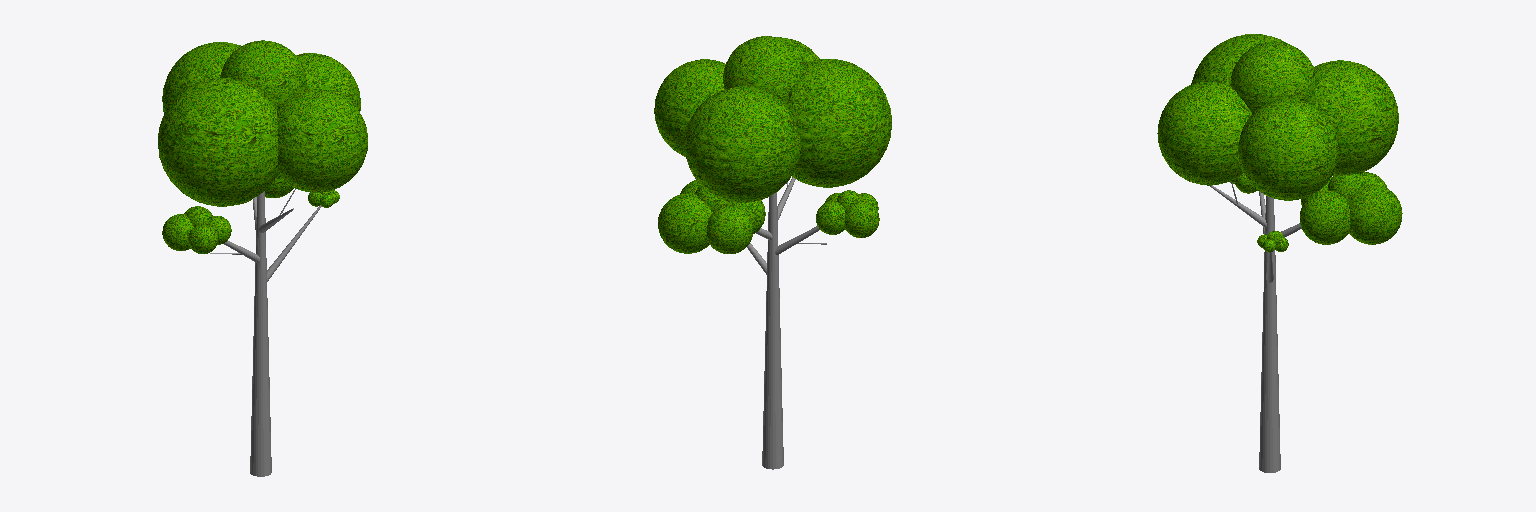
3 renders of one model, left to right at view 1: azimuth 30°, elevation 25°; view 2: azimuth 150°, elevation 25°; view 3: azimuth 270°, elevation 25°, orthographic.
Parts seen in each view (by area): view 1: Sphere005, Cone001, Sphere007; view 2: Sphere005, Sphere006, Cone001, Sphere007; view 3: Sphere005, Sphere006, Cone001.
Part boxes in pixels (left/top/right/bottom): Sphere005: left=158, top=40, right=367, bottom=206; Cone001: left=250, top=191, right=271, bottom=476; Sphere007: left=162, top=206, right=231, bottom=253; Sphere005: left=654, top=36, right=891, bottom=202; Sphere006: left=658, top=180, right=765, bottom=253; Cone001: left=762, top=192, right=783, bottom=469; Sphere007: left=816, top=190, right=879, bottom=237; Sphere005: left=1157, top=34, right=1398, bottom=200; Sphere006: left=1300, top=172, right=1402, bottom=244; Cone001: left=1259, top=196, right=1280, bottom=472.
Size of the model in its own units: 87.09 by 172 by 89.95.
Materials: 2 (1 with a texture image).